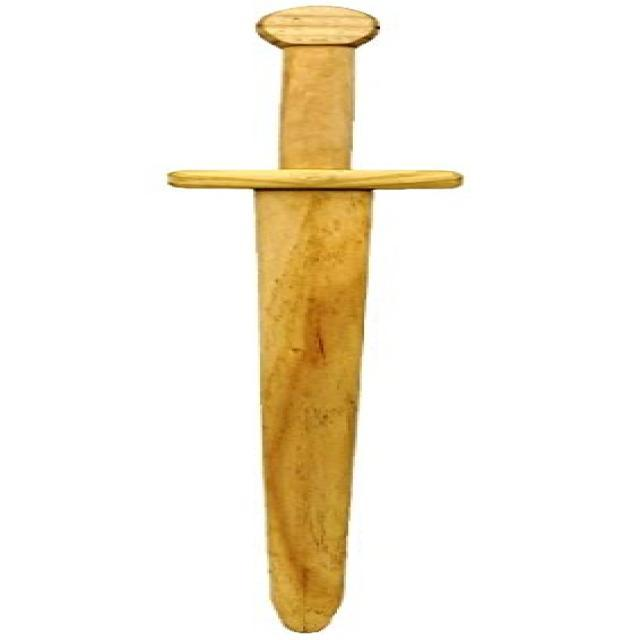sword: (171, 3, 456, 640)
